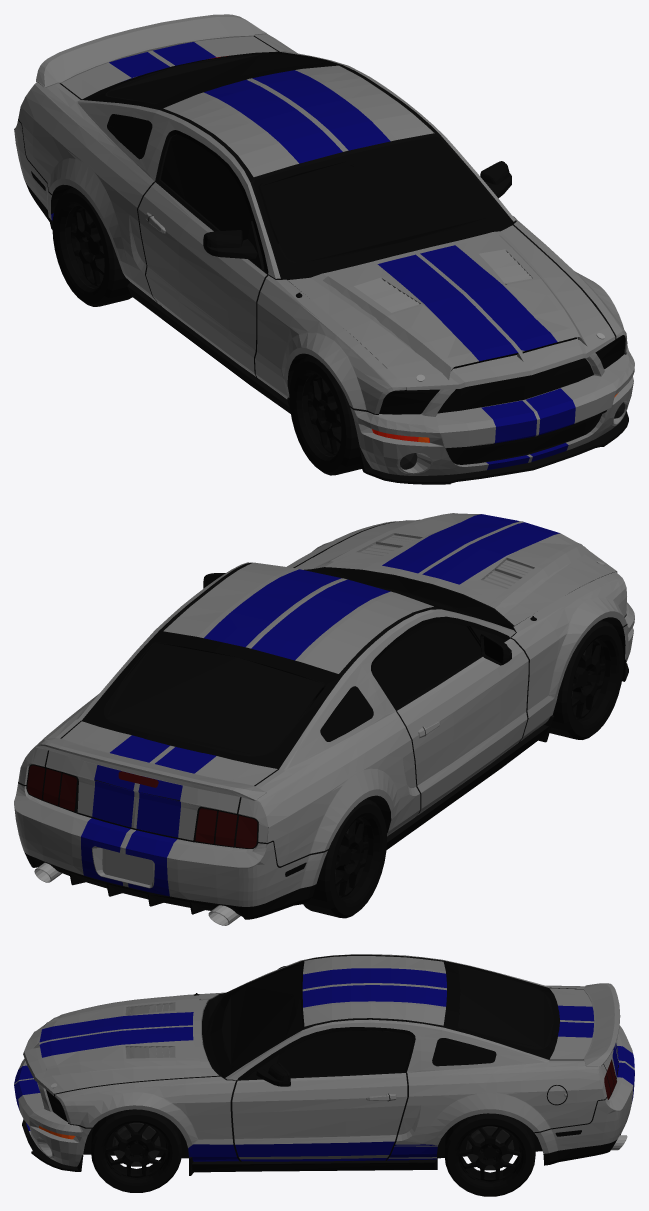
Rendered from mustang.FBX.
3 views of the same model, one above another, from view 1: azimuth 30°, elevation 25°; view 2: azimuth 150°, elevation 25°; view 3: azimuth 270°, elevation 25° (orthographic). The views are drawn at different scales.
Parts seen in each view (by area): view 1: korpus, steklo, shina_fron_right, shina_back_right, disc_fron_right, disc_back_right, fari_pered; view 2: korpus, steklo, shina_back_right, shina_fron_right, fari_zad, disc_back_right, disc_fron_right; view 3: korpus, steklo, shina_back_left, shina_front_left, disk_back_left, disk_fron_left, Object003, Object002.
Boxes of the visible parts, x1,y1,x2,y2 form: korpus: [14, 14, 634, 484]; steklo: [107, 54, 493, 262]; shina_fron_right: [289, 356, 362, 475]; shina_back_right: [52, 187, 132, 306]; disc_fron_right: [307, 374, 341, 454]; disc_back_right: [71, 206, 104, 288]; fari_pered: [379, 335, 625, 414]; korpus: [14, 513, 634, 925]; steklo: [104, 585, 484, 755]; shina_back_right: [303, 799, 386, 918]; shina_fron_right: [549, 620, 623, 739]; fari_zad: [27, 765, 257, 848]; disc_back_right: [335, 817, 368, 897]; disc_fron_right: [571, 639, 605, 719]; korpus: [14, 954, 634, 1175]; steklo: [222, 965, 553, 1077]; shina_back_left: [444, 1113, 535, 1196]; shina_front_left: [91, 1109, 181, 1192]; disk_back_left: [458, 1127, 521, 1181]; disk_fron_left: [105, 1124, 168, 1177]; Object003: [466, 1126, 514, 1170]; Object002: [112, 1122, 160, 1166].
Size of the model in its own units: 100 by 69.07 by 238.
